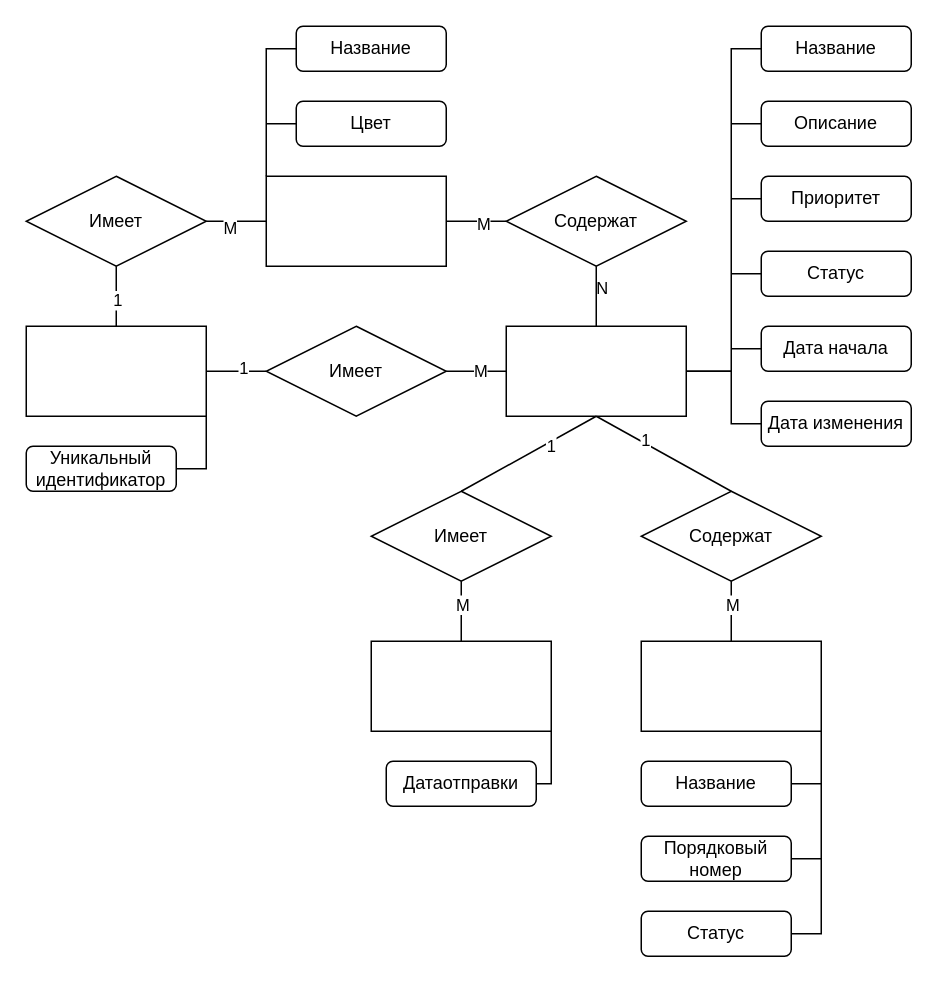
This 938x983 diagram has some shape labels left out. Here are the shapes that lost their labels. From the top down, the centre of each, then its label:
[355,220]: Категории
[115,370]: Пользователь
[595,370]: Задачи
[460,685]: Уведомление
[730,685]: Подзадачи
